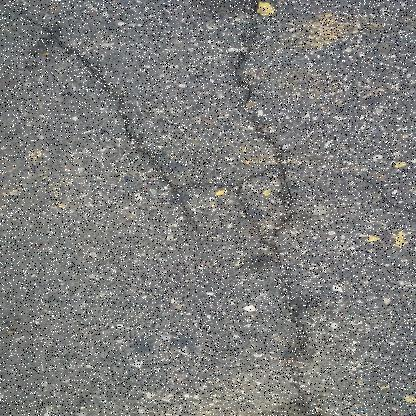Cracks: (213, 0, 324, 415), (31, 13, 179, 193)
